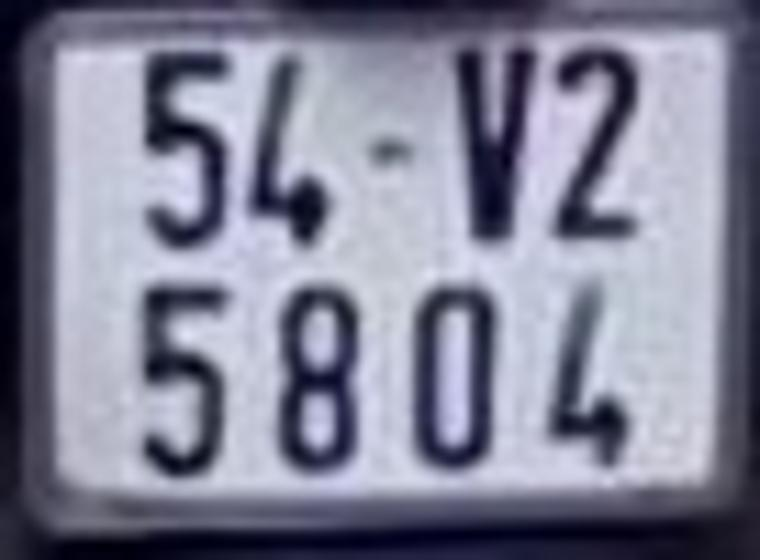-: (366, 129, 423, 181)
0: (408, 282, 498, 471)
2: (554, 40, 646, 245)
4: (246, 47, 343, 250), (546, 278, 634, 473)
5: (132, 279, 237, 480), (141, 47, 230, 252)
8: (279, 280, 363, 467)
V: (451, 36, 539, 241)
